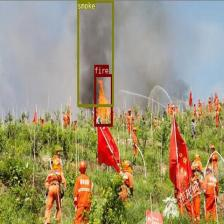fire: (94, 73, 112, 126)
smoke: (77, 0, 113, 106)
